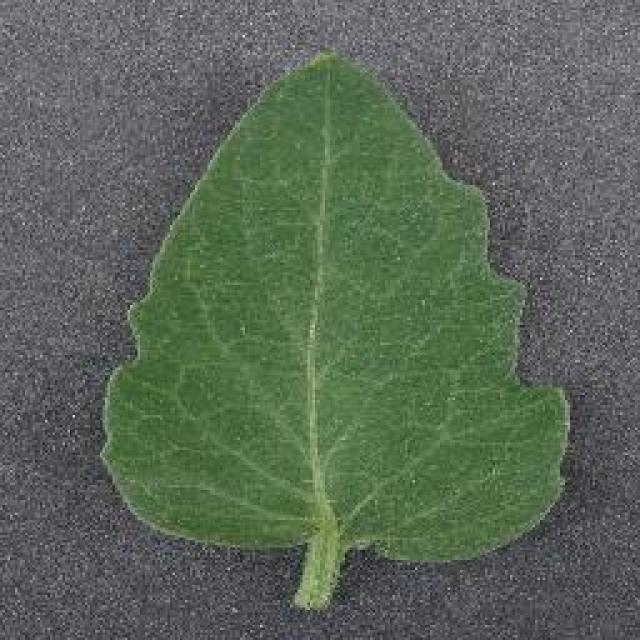Healthy: (88, 30, 578, 625)
